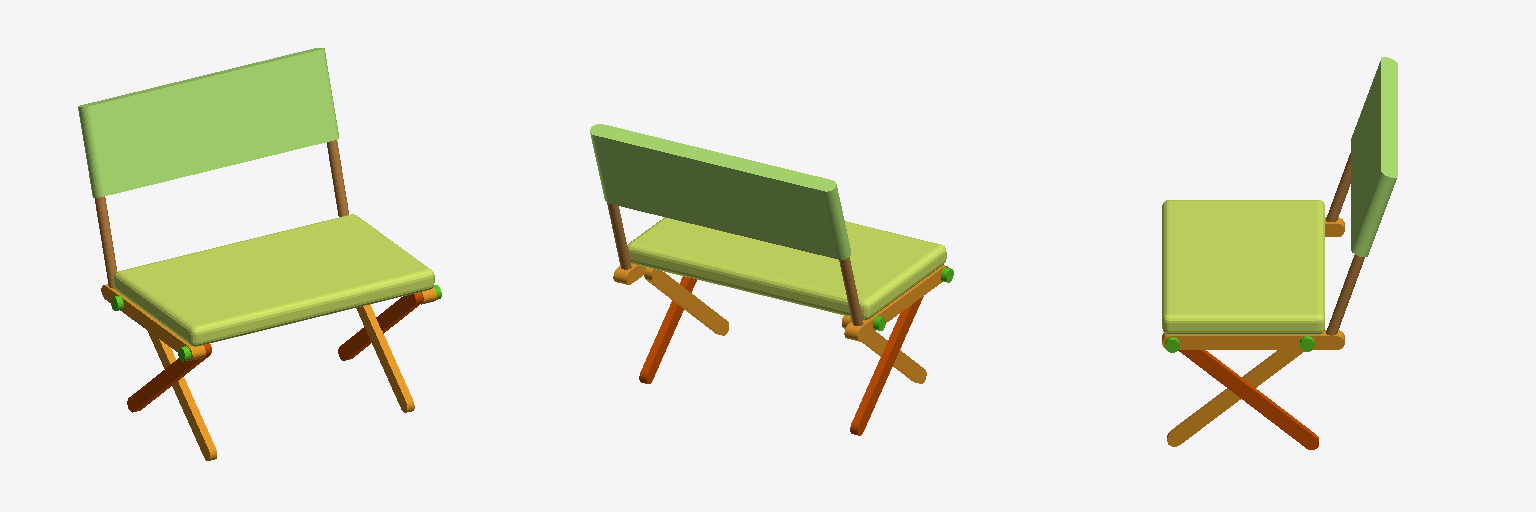
The picture shows the model from 3 angles: view 1: azimuth 30°, elevation 25°; view 2: azimuth 150°, elevation 25°; view 3: azimuth 270°, elevation 25°; orthographic projection.
Visible parts, largest first — view 1: Cube_Cube.001, Cube.004_Cube.006, Cube.003_Cube.005, Cube.002_Cube.004, Cylinder.002_Cylinder.003, Cube.001_Cube.003; view 2: Cube.004_Cube.006, Cube_Cube.001, Cube.002_Cube.004, Cube.003_Cube.005, Cube.001_Cube.003, Cylinder.002_Cylinder.003; view 3: Cube_Cube.001, Cube.004_Cube.006, Cube.001_Cube.003, Cube.002_Cube.004, Cube.003_Cube.005, Cylinder.002_Cylinder.003.
Part boxes in pixels (left/top/right/bottom): Cube_Cube.001: left=114, top=214, right=434, bottom=346; Cube.004_Cube.006: left=78, top=48, right=338, bottom=197; Cube.003_Cube.005: left=147, top=304, right=414, bottom=460; Cube.002_Cube.004: left=127, top=292, right=422, bottom=412; Cylinder.002_Cylinder.003: left=95, top=140, right=348, bottom=288; Cube.001_Cube.003: left=101, top=284, right=436, bottom=360; Cube.004_Cube.006: left=590, top=124, right=850, bottom=259; Cube_Cube.001: left=627, top=217, right=946, bottom=319; Cube.002_Cube.004: left=639, top=276, right=923, bottom=435; Cube.003_Cube.005: left=644, top=267, right=926, bottom=383; Cube.001_Cube.003: left=613, top=264, right=948, bottom=341; Cylinder.002_Cylinder.003: left=607, top=203, right=863, bottom=325; Cube_Cube.001: left=1162, top=200, right=1324, bottom=334; Cube.004_Cube.006: left=1351, top=57, right=1397, bottom=256; Cube.001_Cube.003: left=1162, top=217, right=1344, bottom=349; Cube.002_Cube.004: left=1178, top=350, right=1318, bottom=449; Cube.003_Cube.005: left=1167, top=350, right=1304, bottom=446; Cylinder.002_Cylinder.003: left=1326, top=153, right=1364, bottom=335.
Size of the model in its own units: 2.1 by 2.2 by 1.67.
Materials: 7 (5 with a texture image).